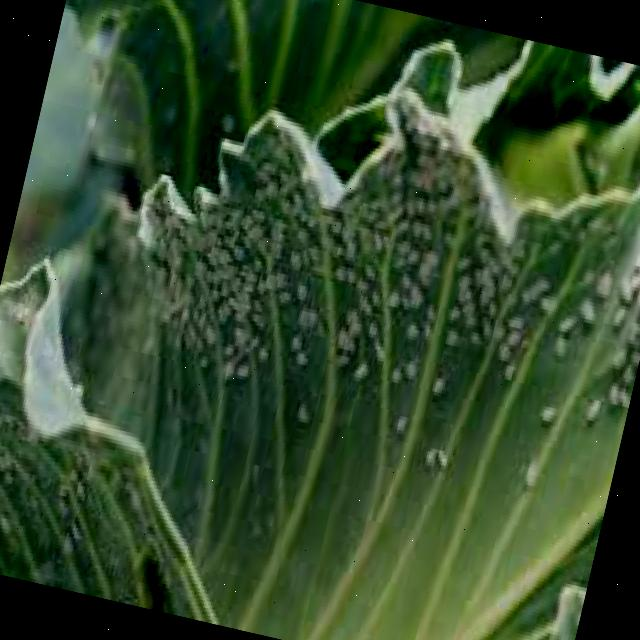whitefly: (84, 30, 640, 553)
